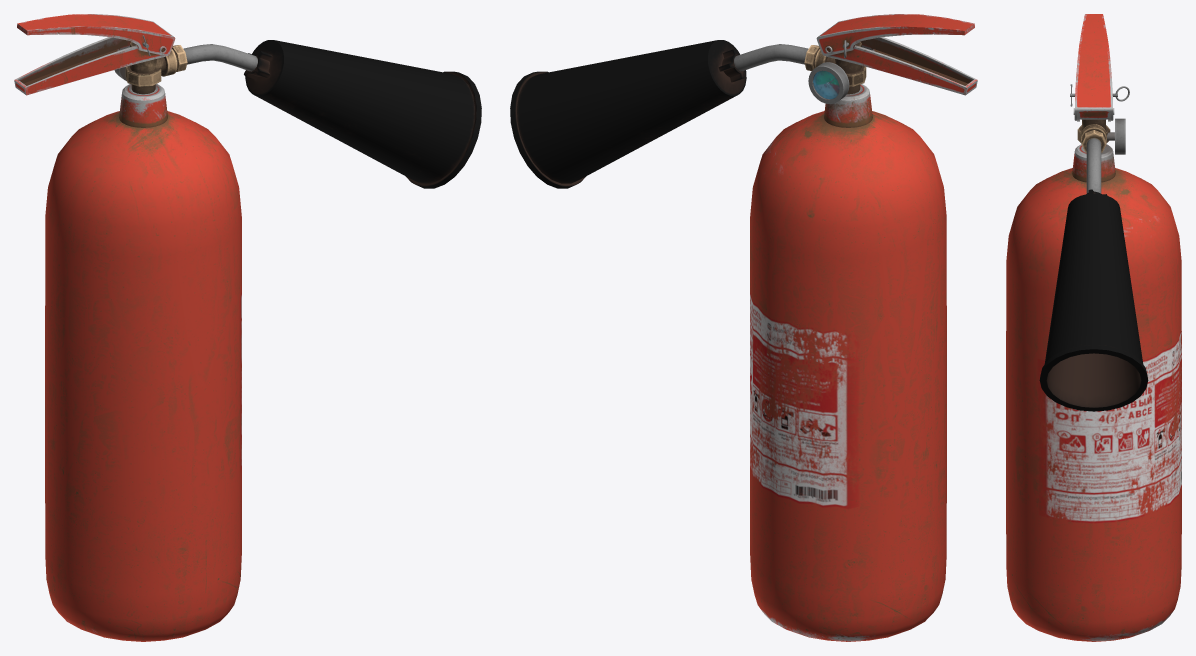
File: ip_ext.glb
The picture shows the model from 3 angles, left to right: view 1: azimuth 30°, elevation 25°; view 2: azimuth 150°, elevation 25°; view 3: azimuth 270°, elevation 25°; orthographic projection. The views are drawn at different scales.
Parts seen in each view (by area): view 1: O_ip_ext__Body; view 2: O_ip_ext__Body; view 3: O_ip_ext__Body.
Part boxes in pixels (box(x1,y1,x2,y2)): O_ip_ext__Body: box(14, 14, 481, 641); O_ip_ext__Body: box(510, 14, 977, 641); O_ip_ext__Body: box(1006, 14, 1181, 641).
Size of the model in its own units: 1.28 by 1.68 by 0.4874.
1 material, 1 textured.
